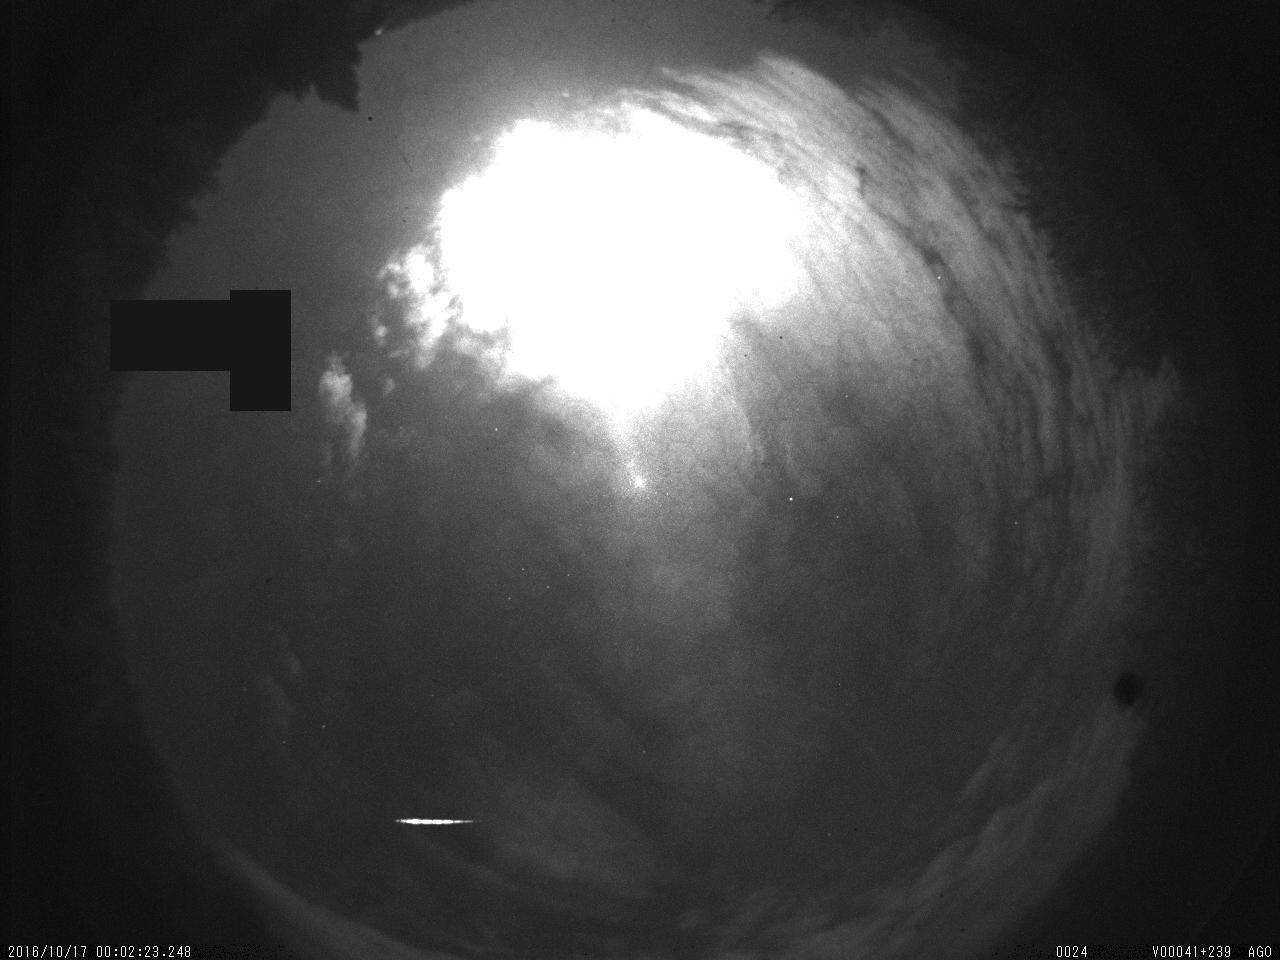Meteor: (391, 813, 478, 833)
